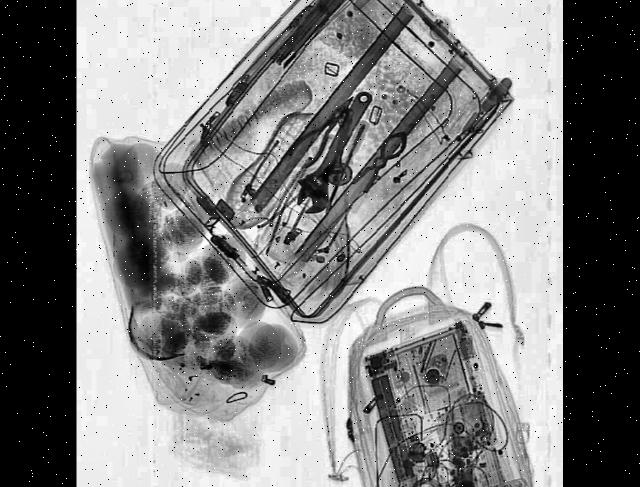Pliers: (286, 79, 361, 178)
Wrench: (292, 72, 378, 224)
